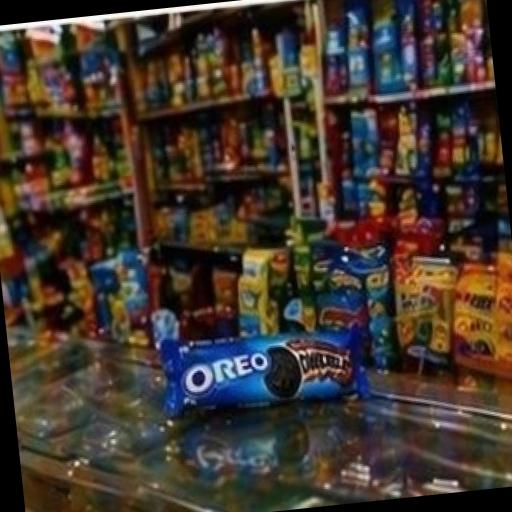oreo: (96, 248, 432, 484)
